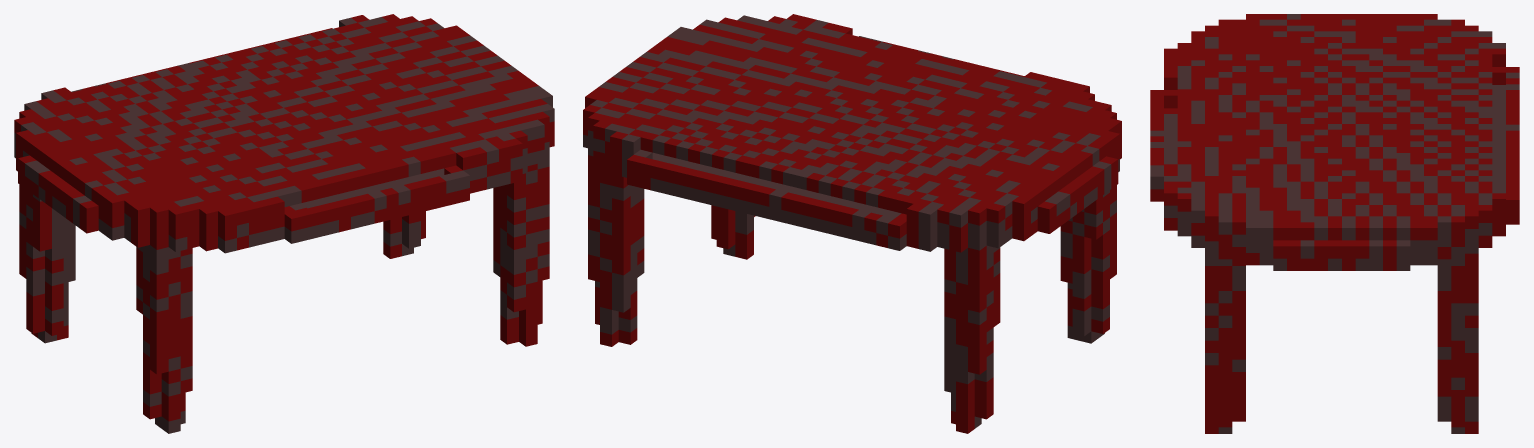
File: table round.obj
3 views of the same model, side by side, from view 1: azimuth 30°, elevation 25°; view 2: azimuth 150°, elevation 25°; view 3: azimuth 270°, elevation 25° (orthographic).
Bounding box in the file's own units: 39 × 18 × 27.
1 material, 1 textured.
